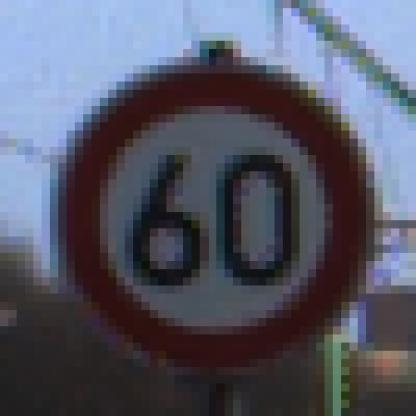Speed Limit 60: (73, 72, 351, 354)
